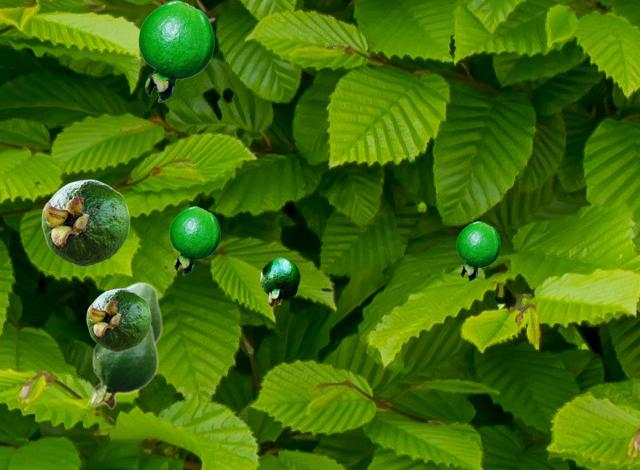guava: (41, 179, 129, 266), (138, 0, 213, 101), (90, 323, 157, 409), (86, 288, 150, 351), (169, 206, 219, 274), (456, 221, 499, 280), (121, 281, 161, 343), (260, 257, 299, 306)
